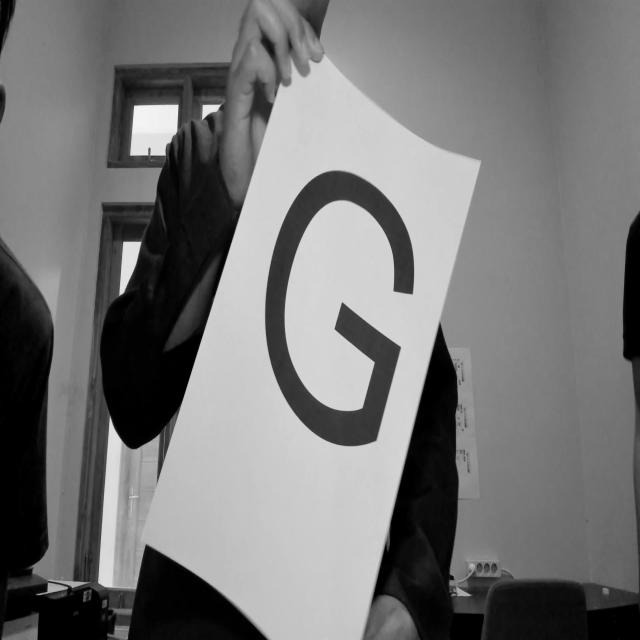g: (258, 144, 425, 482)
